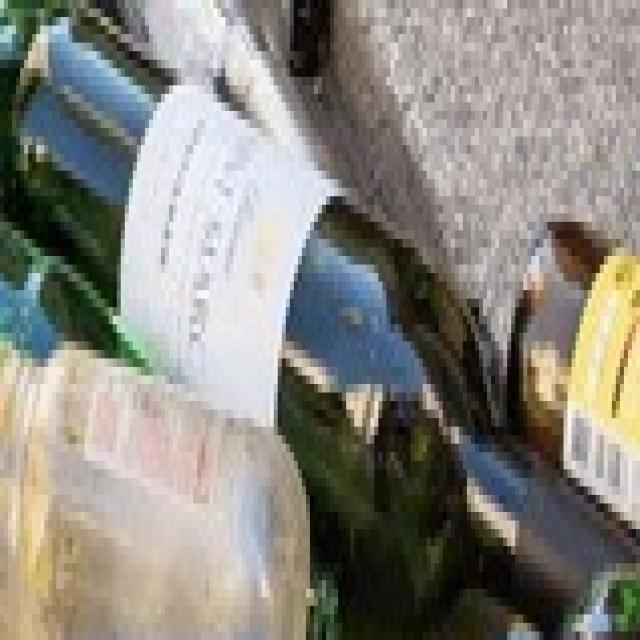glass bottle: (19, 0, 640, 628)
